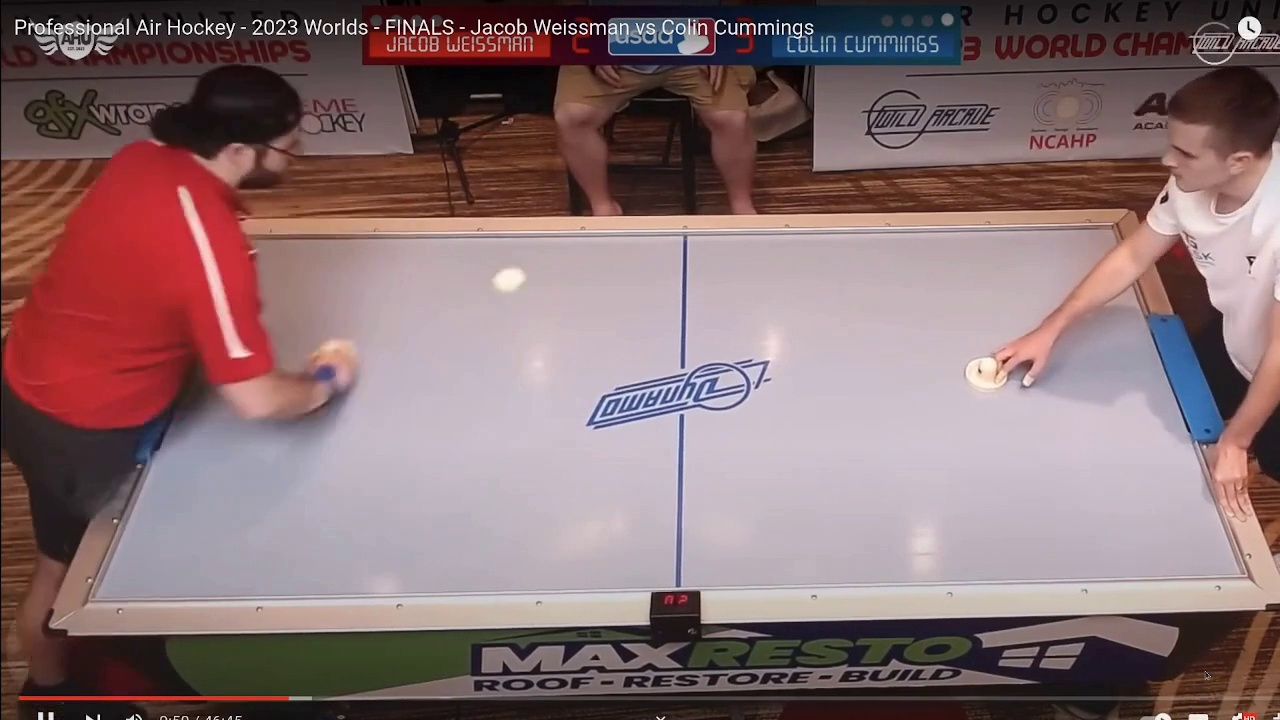player: (964, 355, 1012, 388), (313, 338, 364, 364)
puck: (490, 267, 530, 293)
table: (103, 221, 1274, 599)
